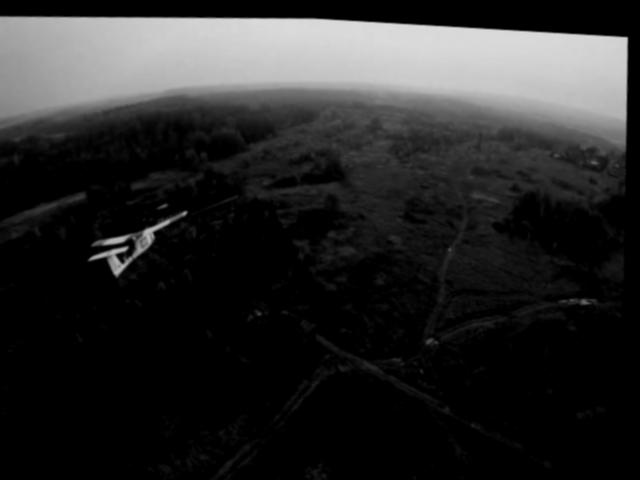hedef: (74, 193, 207, 298)
